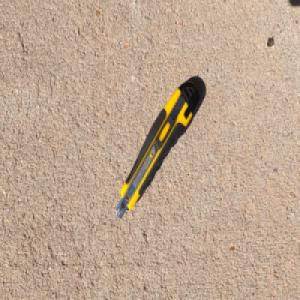Cutter: (114, 78, 201, 221)
